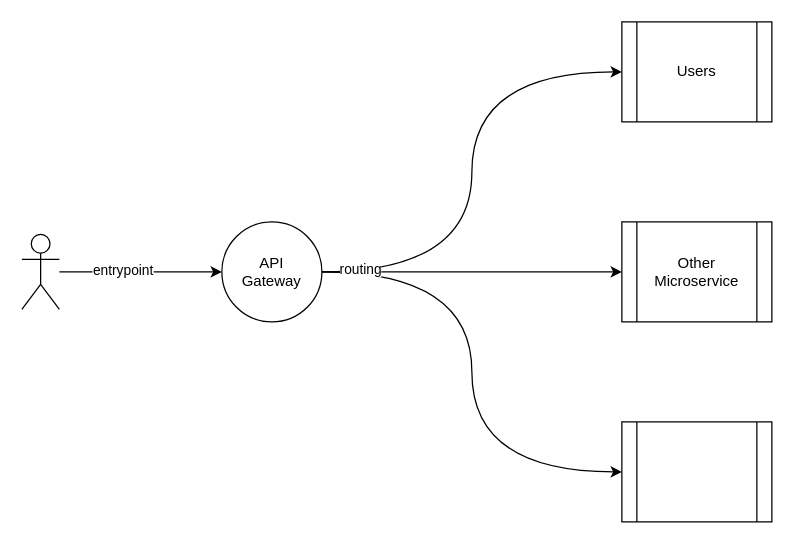
Image size: 794x544. Some labels were removed from this diagram. Each missing label, with the centre of its shape:
"Client" belongs at pixel 40 271.
"Yet Another Microservice" belongs at pixel 696 471.
